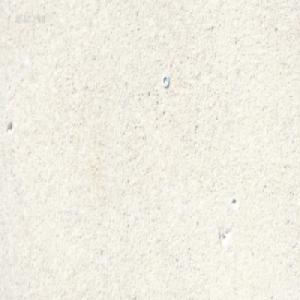Washer: (161, 73, 169, 87)
